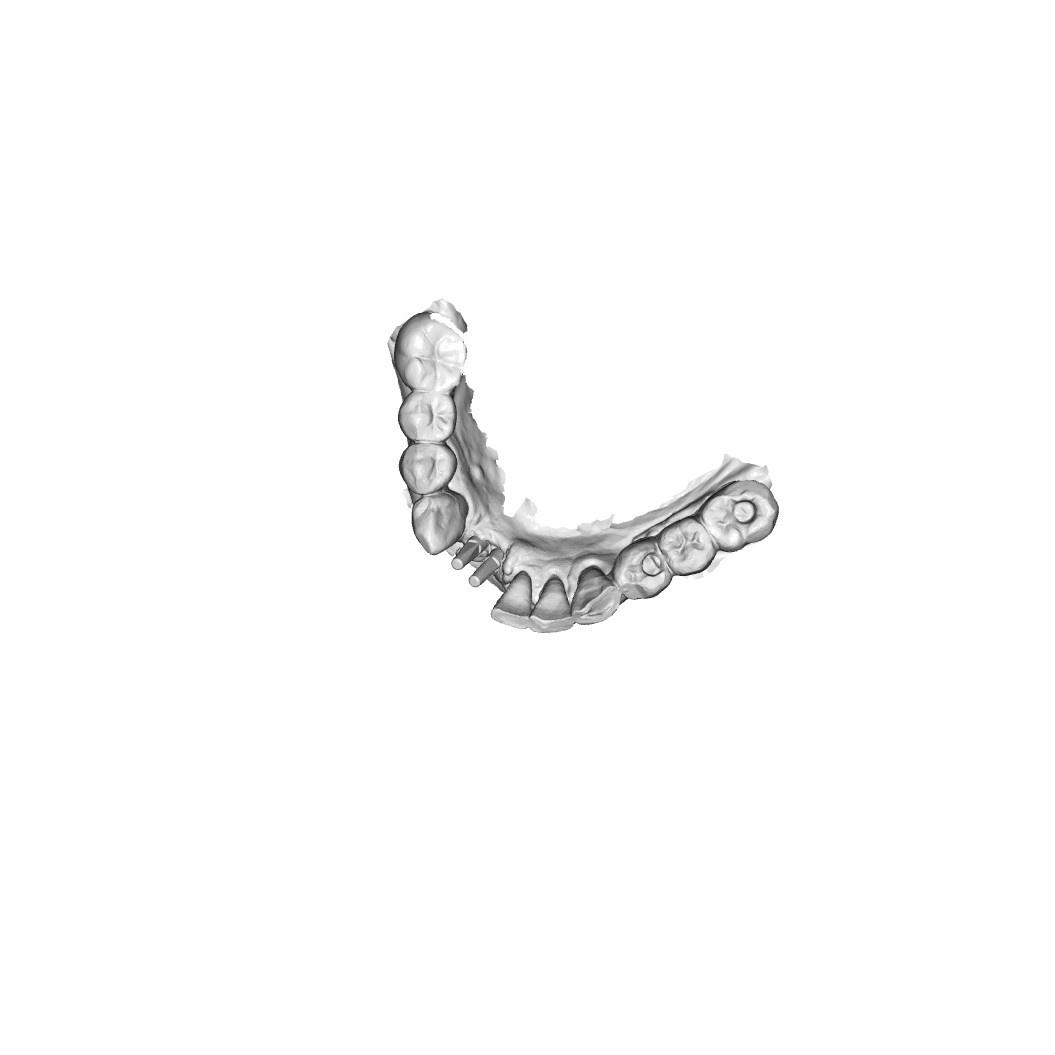abutment: (466, 547, 512, 596), (447, 534, 492, 573)
canine: (409, 490, 467, 556), (570, 560, 622, 628)
incisor: (529, 577, 578, 641), (491, 572, 532, 632)
molar: (389, 319, 473, 392), (700, 477, 778, 554)
premolar: (613, 538, 673, 600), (661, 519, 719, 578), (398, 442, 457, 493), (399, 393, 453, 441)
